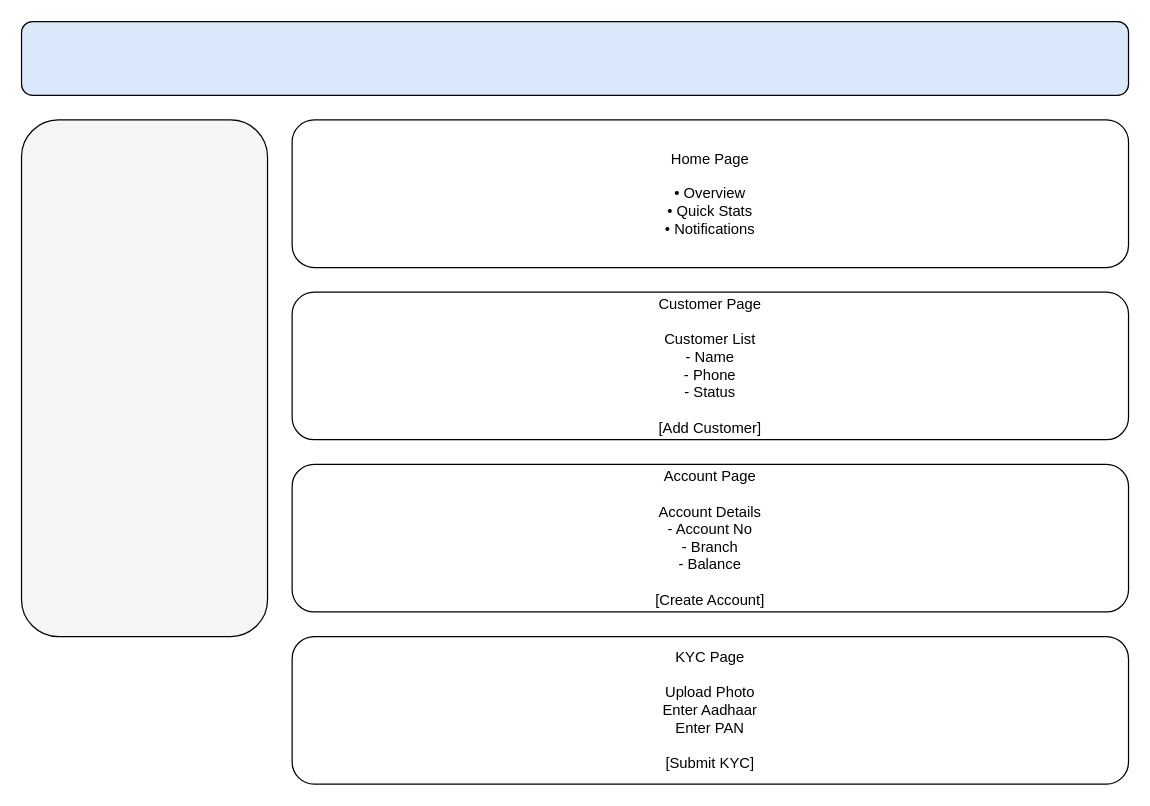
Some shapes in this 1150 by 806 pixel diagram are drawn without their labels. Here are the shapes that lost their labels. From the top down, the centre of each, then its label:
At [574,57]: "Microfinance System".
At [144,378]: "Menu - Home - Customer - Account - KYC".
